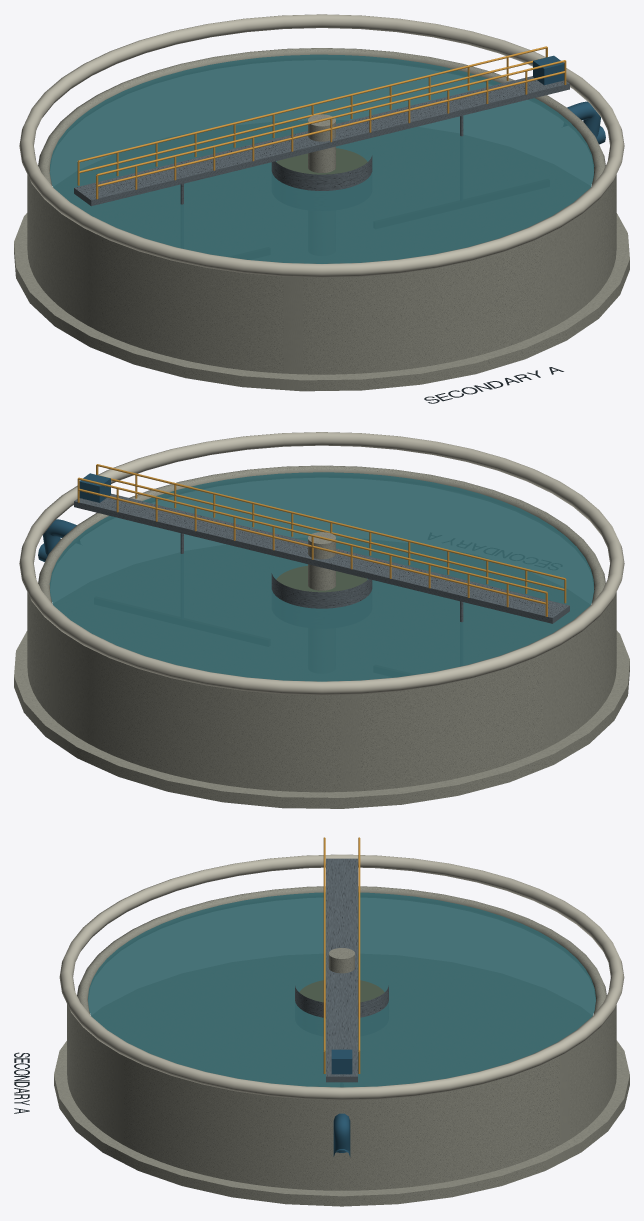
The model's file is water-clarifier.d043a3d764b6.glb.
The picture shows the model from 3 angles, top to bottom: view 1: azimuth 30°, elevation 25°; view 2: azimuth 150°, elevation 25°; view 3: azimuth 270°, elevation 25°; orthographic projection. The views are drawn at different scales.
Visible parts, largest first — view 1: structure_concrete_00049, clarifier_quiet_surface_00005, structure_cream_00050, bridge_deck_00010, structure_steel_00051, safety_rail_00040, safety_rail_00025, safety_rail_00039, safety_rail_00024, feedwell_surface_00007, structure_blue_00052, drive_motor_00041 (+1 smaller); view 2: structure_concrete_00049, clarifier_quiet_surface_00005, structure_cream_00050, bridge_deck_00010, structure_steel_00051, safety_rail_00040, safety_rail_00025, safety_rail_00024, safety_rail_00039, feedwell_surface_00007, structure_blue_00052, drive_motor_00041; view 3: clarifier_quiet_surface_00005, structure_concrete_00049, structure_cream_00050, bridge_deck_00010, structure_steel_00051, feedwell_surface_00007, structure_blue_00052, safety_rail_00025, safety_rail_00040, drive_motor_00041, structure_dark_00053.
Part boxes in pixels (box(x1,y1,x2,y2)): structure_concrete_00049: box(14, 48, 629, 391); clarifier_quiet_surface_00005: box(49, 54, 594, 263); structure_cream_00050: box(19, 14, 624, 277); bridge_deck_00010: box(74, 76, 569, 206); structure_steel_00051: box(271, 155, 372, 190); safety_rail_00040: box(96, 60, 565, 175); safety_rail_00025: box(78, 46, 547, 162); safety_rail_00039: box(97, 71, 565, 186); safety_rail_00024: box(79, 57, 544, 173); feedwell_surface_00007: box(276, 148, 367, 174); structure_blue_00052: box(567, 101, 605, 144); drive_motor_00041: box(533, 55, 564, 85); structure_concrete_00049: box(14, 465, 629, 808); clarifier_quiet_surface_00005: box(49, 472, 594, 681); structure_cream_00050: box(19, 432, 624, 695); bridge_deck_00010: box(74, 493, 569, 623); structure_steel_00051: box(271, 573, 372, 608); safety_rail_00040: box(96, 464, 565, 579); safety_rail_00025: box(78, 477, 547, 593); safety_rail_00024: box(78, 488, 546, 604); safety_rail_00039: box(99, 475, 564, 590); feedwell_surface_00007: box(276, 565, 367, 592); structure_blue_00052: box(38, 519, 76, 561); drive_motor_00041: box(79, 473, 110, 502); clarifier_quiet_surface_00005: box(88, 892, 595, 1087); structure_concrete_00049: box(54, 886, 629, 1206); structure_cream_00050: box(59, 854, 624, 1100); bridge_deck_00010: box(326, 858, 357, 1082); structure_steel_00051: box(295, 985, 388, 1017); feedwell_surface_00007: box(299, 980, 384, 1002); structure_blue_00052: box(333, 1113, 350, 1156); safety_rail_00025: box(358, 837, 360, 1051); safety_rail_00040: box(323, 837, 325, 1051); drive_motor_00041: box(331, 1049, 352, 1074); structure_dark_00053: box(14, 1052, 29, 1113).
Size of the model in its own units: 15.65 by 4.13 by 16.36.
10 materials, 3 textured.
